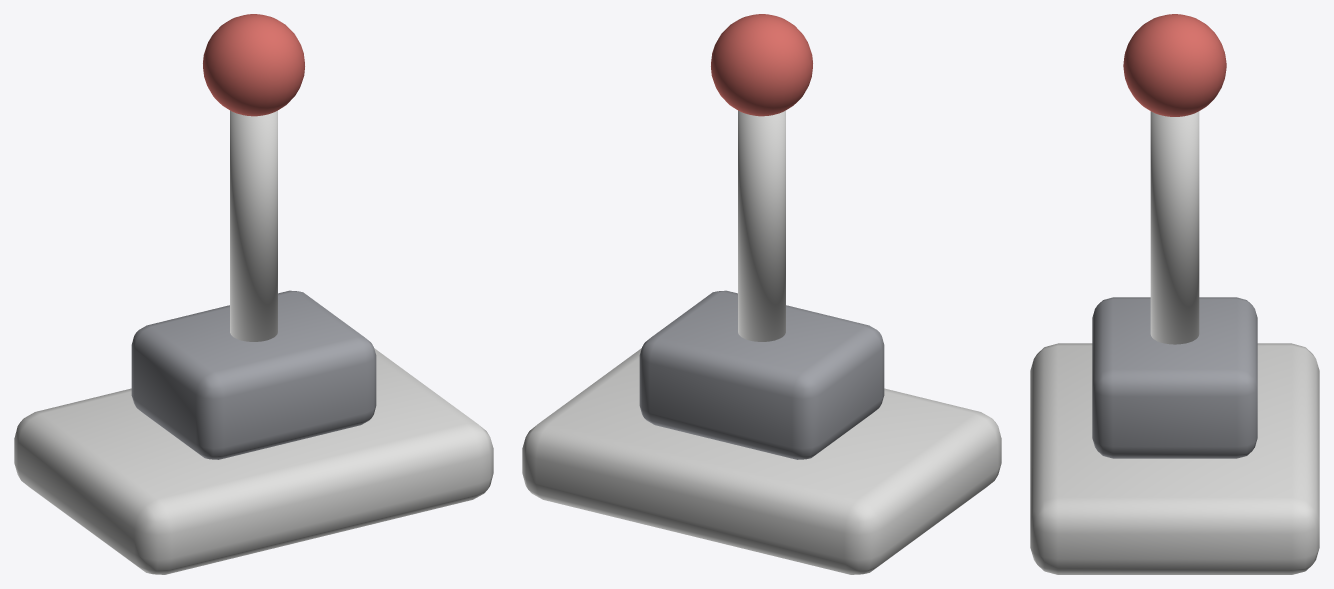
File: sound--switch.glb
3 renders of one model, left to right at view 1: azimuth 30°, elevation 25°; view 2: azimuth 150°, elevation 25°; view 3: azimuth 270°, elevation 25°, orthographic.
Visible parts, largest first — view 1: sound--switch, lever; view 2: sound--switch, lever; view 3: sound--switch, lever.
Part boxes in pixels (x1,y1,x2,y2): sound--switch: (14, 290, 493, 574); lever: (203, 14, 304, 341); sound--switch: (522, 290, 1001, 574); lever: (711, 14, 812, 341); sound--switch: (1030, 297, 1319, 574); lever: (1123, 14, 1226, 344).
Size of the model in its own units: 0.6001 by 0.7649 by 0.4199.
